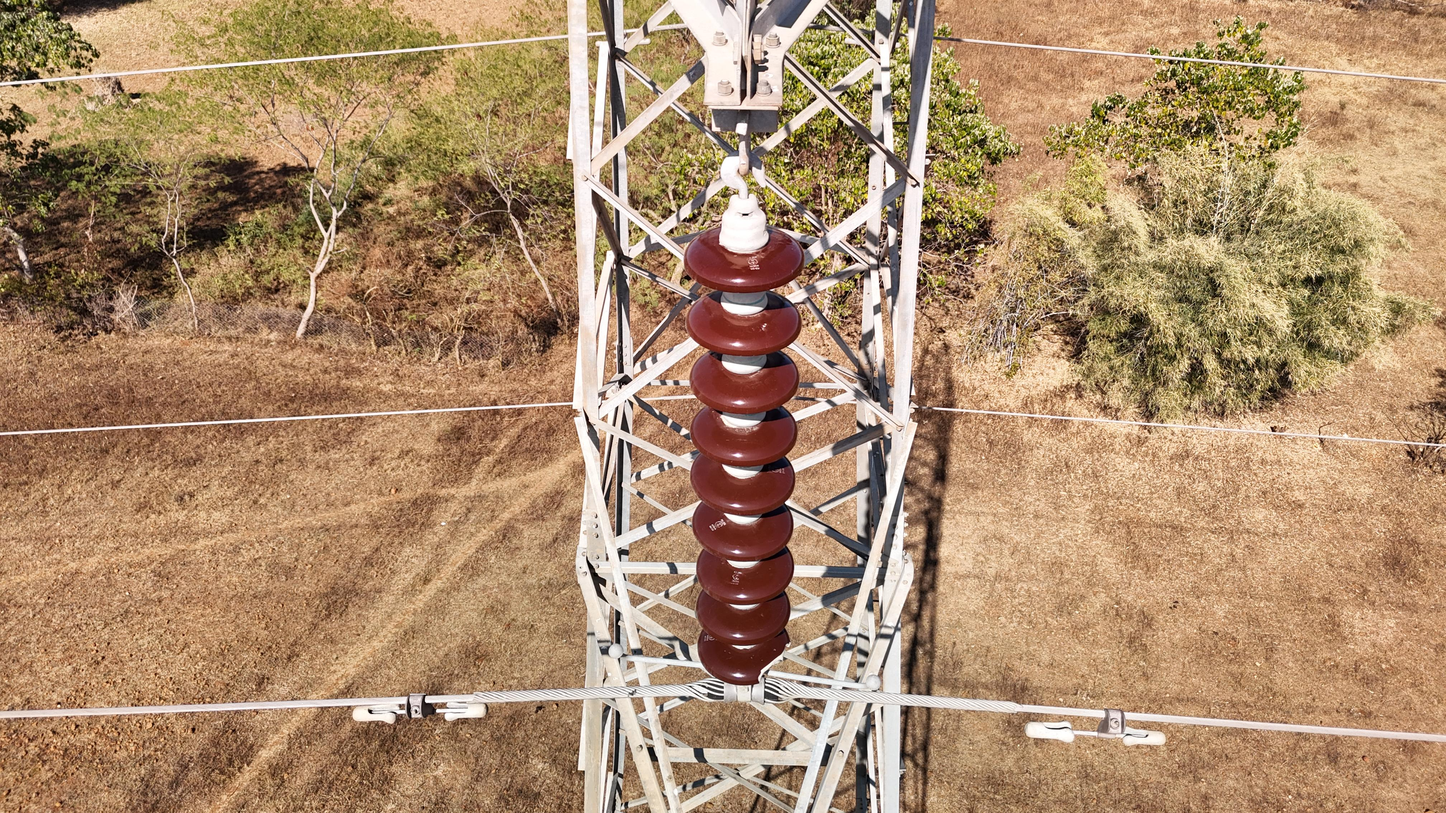broken_insulator: (695, 636, 793, 689)
